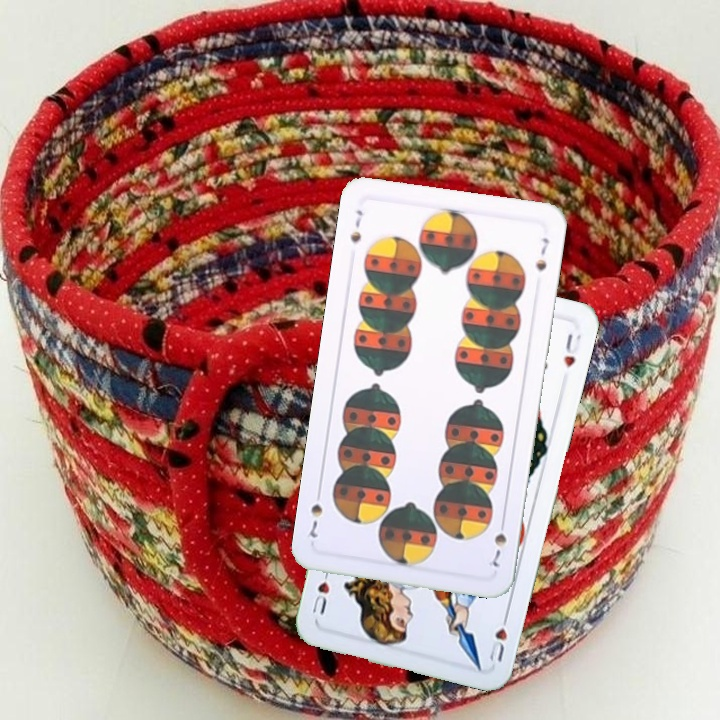HU: (484, 608, 511, 664)
S7: (487, 514, 509, 571), (346, 206, 365, 245)
